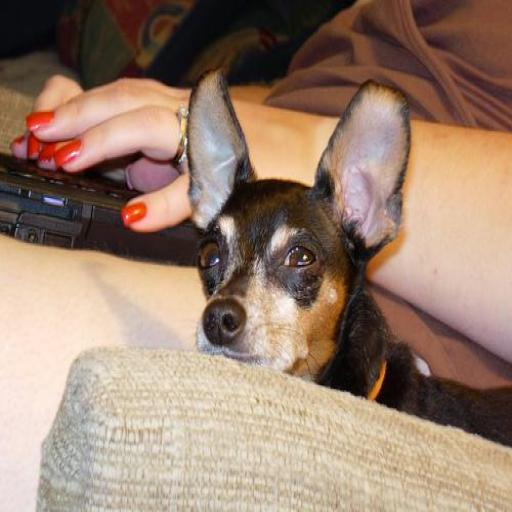dog_face: (188, 68, 419, 372)
